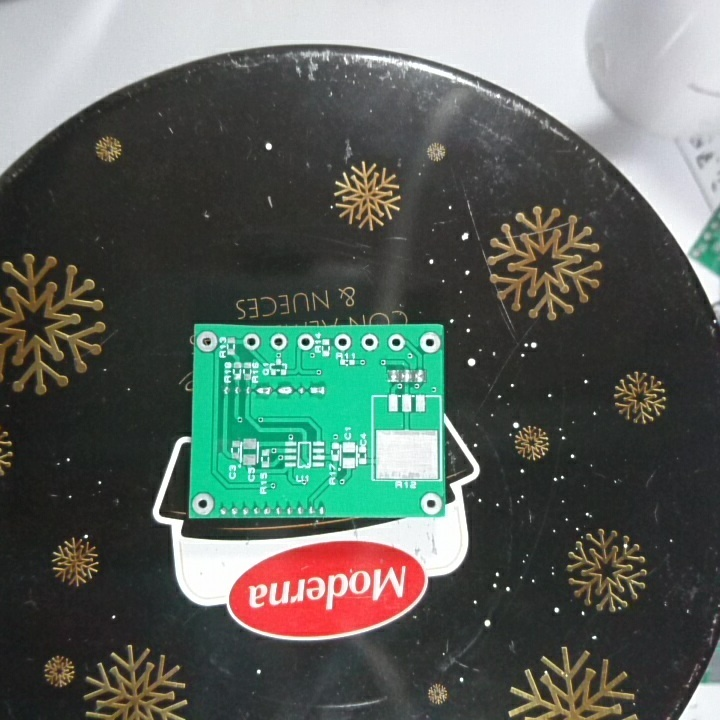F: (419, 491, 443, 518), (195, 330, 219, 356), (192, 492, 215, 516), (418, 330, 439, 355), (241, 332, 262, 354), (268, 332, 289, 353), (294, 332, 315, 353), (385, 333, 406, 354), (358, 332, 379, 352), (332, 333, 351, 354)
P: (306, 382, 328, 398), (254, 385, 275, 400), (275, 383, 294, 398)
